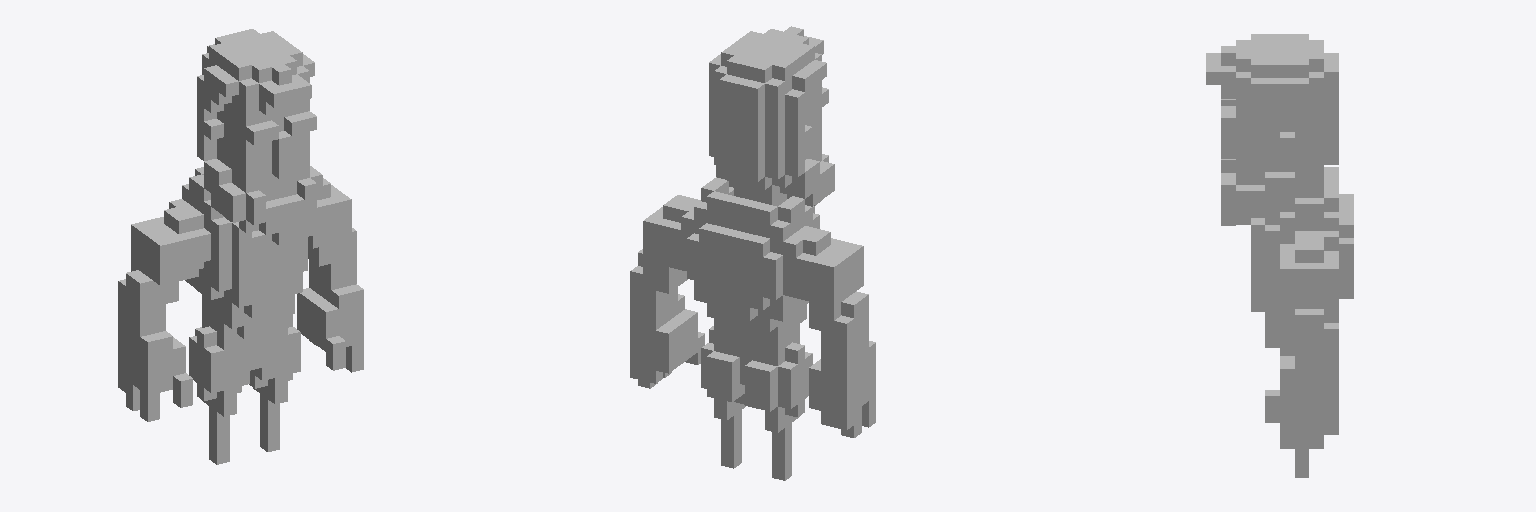
Rendered from barbarian.obj.
The picture shows the model from 3 angles: view 1: azimuth 30°, elevation 25°; view 2: azimuth 150°, elevation 25°; view 3: azimuth 270°, elevation 25°; orthographic projection.
Visible parts, largest first — view 1: object 1; view 2: object 1; view 3: object 1.
Part boxes in pixels (x1,y1,x2,y2): object 1: (118, 29, 363, 464); object 1: (630, 26, 875, 480); object 1: (1206, 34, 1353, 477).
Bounding box in the file's own units: 1.7 × 3.1 × 1.